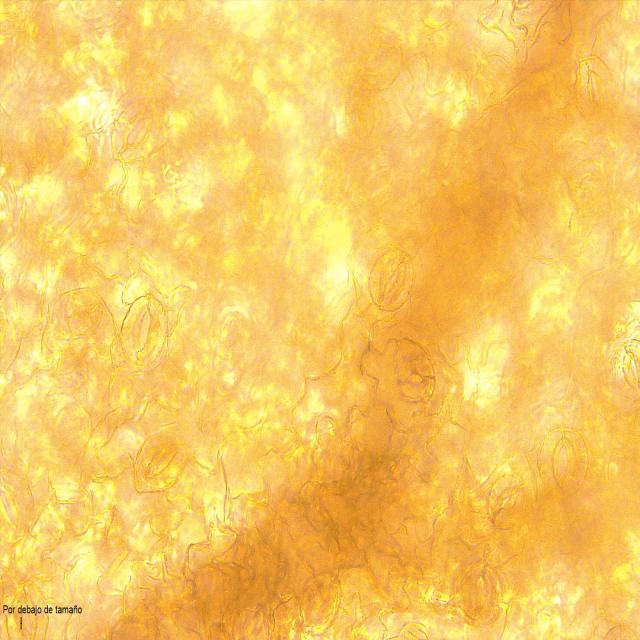Stomata: (536, 427, 590, 498), (119, 292, 169, 367), (134, 429, 186, 496), (110, 100, 162, 164), (367, 246, 416, 313), (452, 561, 502, 625), (354, 32, 406, 93), (572, 54, 614, 126), (487, 472, 527, 530), (0, 468, 27, 544), (613, 337, 640, 402)
